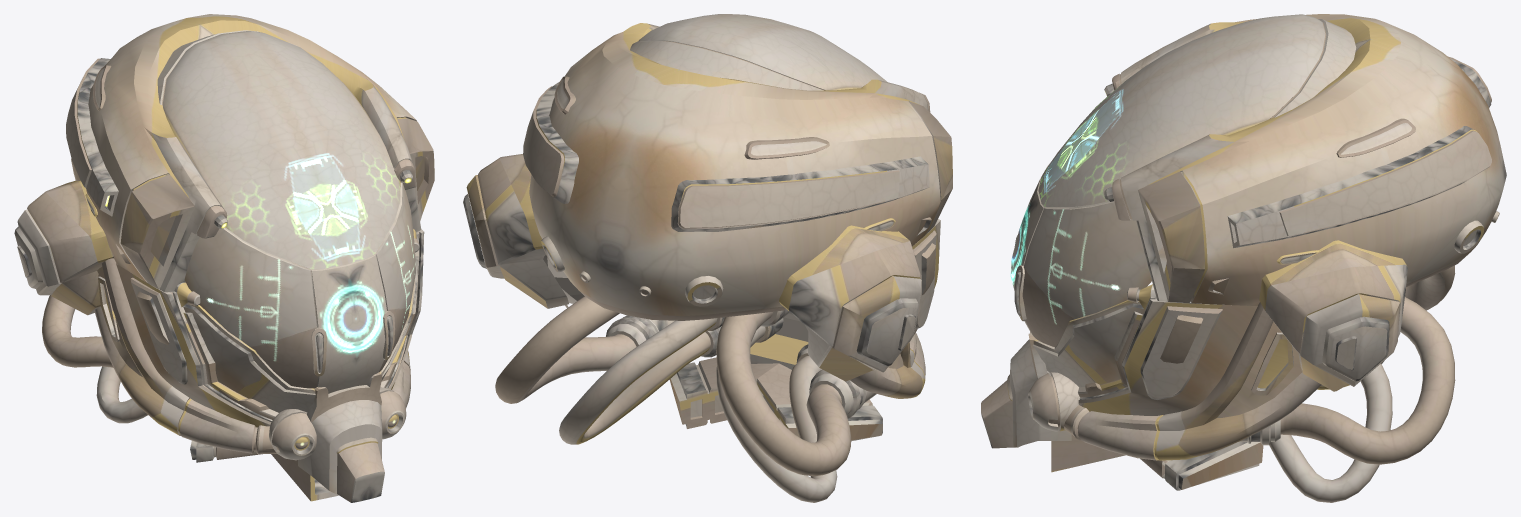
3 renders of one model, left to right at view 1: azimuth 30°, elevation 25°; view 2: azimuth 150°, elevation 25°; view 3: azimuth 270°, elevation 25°, orthographic. The views are drawn at different scales.
Visible parts, largest first — view 1: node_damagedHelmet_-6514; view 2: node_damagedHelmet_-6514; view 3: node_damagedHelmet_-6514.
Part boxes in pixels (x1=…): node_damagedHelmet_-6514: x1=14, y1=14, x2=434, y2=502; node_damagedHelmet_-6514: x1=463, y1=14, x2=952, y2=502; node_damagedHelmet_-6514: x1=981, y1=14, x2=1506, y2=502.
Bounding box in the file's own units: 1.89 × 1.8 × 2.
